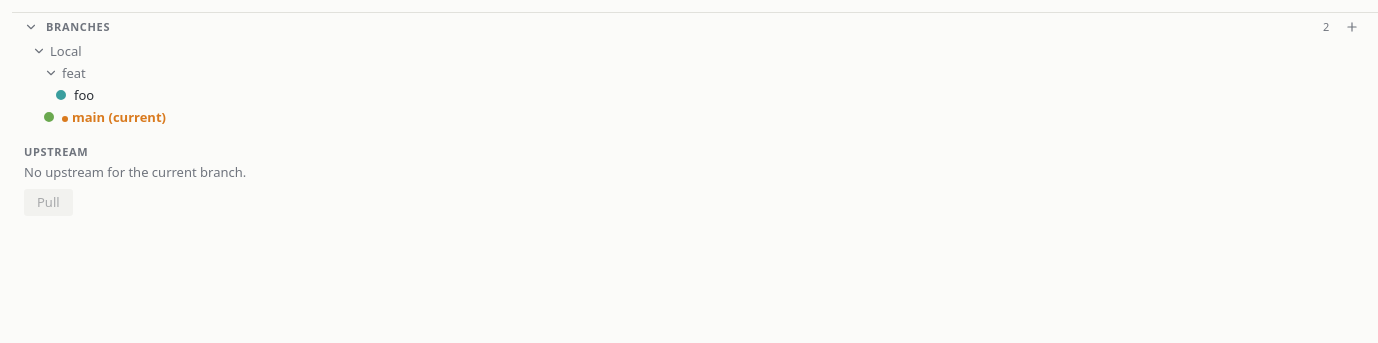
Test: BranchTree — local branches › Checkout is disabled for the current branch
Right-click the button "main (current)": (105, 117) x1=44 y1=108 x2=166 y2=126
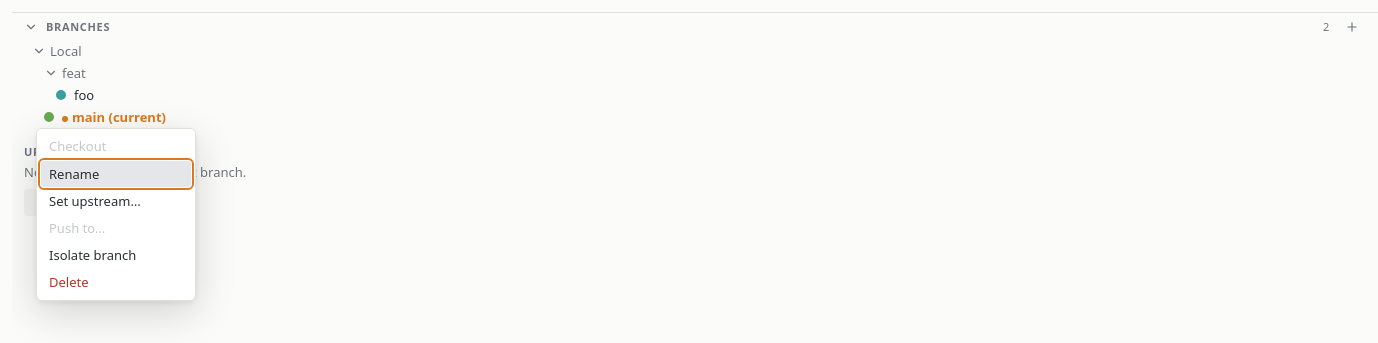
Now the menu item "Checkout" is disabled, box x1=41 y1=133 x2=191 y2=160
